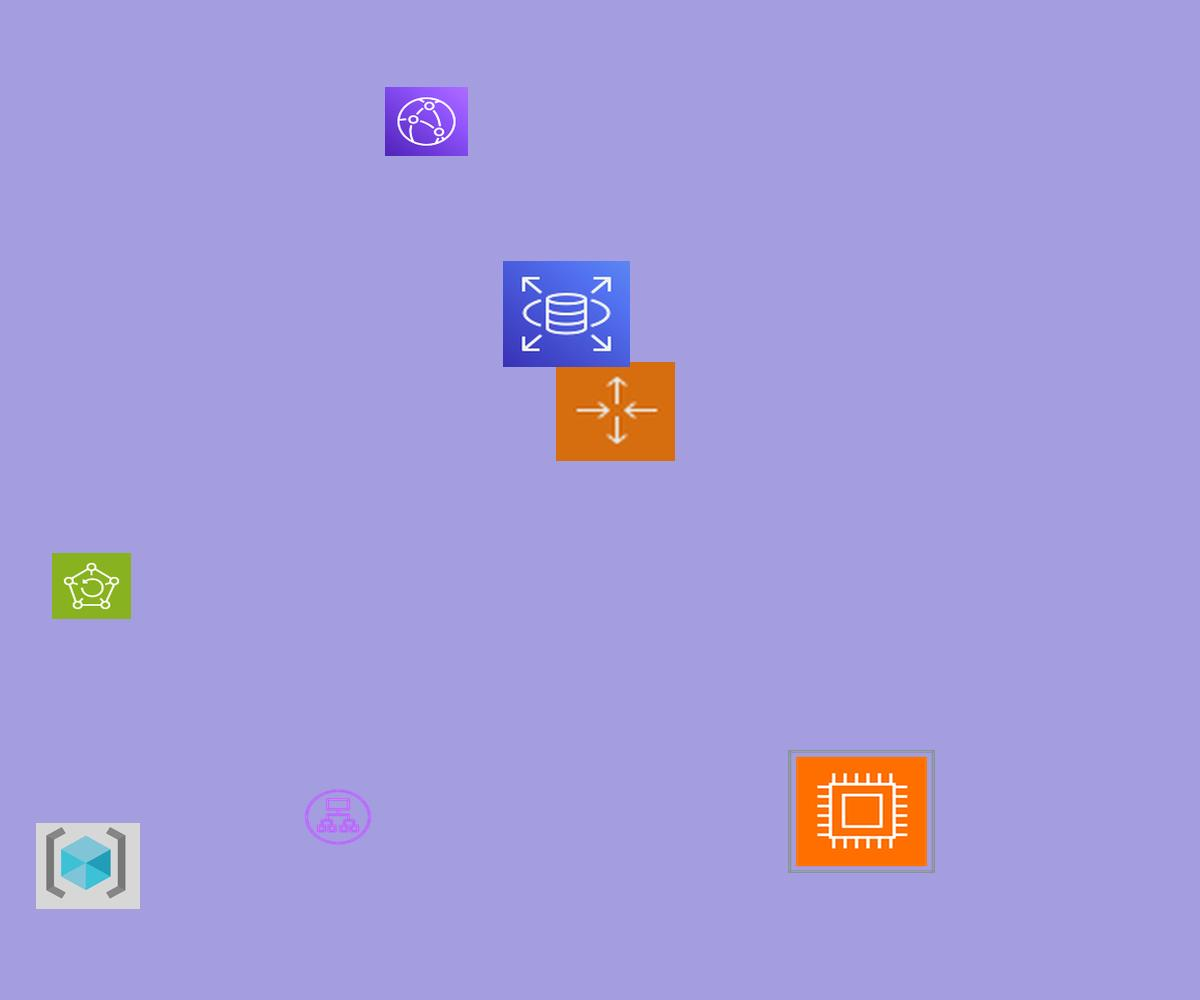AWS-Backup: (52, 553, 131, 619)
AWS-Category_Compute: (788, 750, 935, 873)
AWS-CloudFront: (385, 87, 468, 156)
AWS-RDS: (503, 261, 630, 367)
AWS-Res_Elastic-Load-Balancing_Application-Load-Balancer: (302, 787, 374, 847)
AWS-Scaling-group: (556, 362, 675, 461)
Azure_resource_group: (36, 823, 140, 909)
